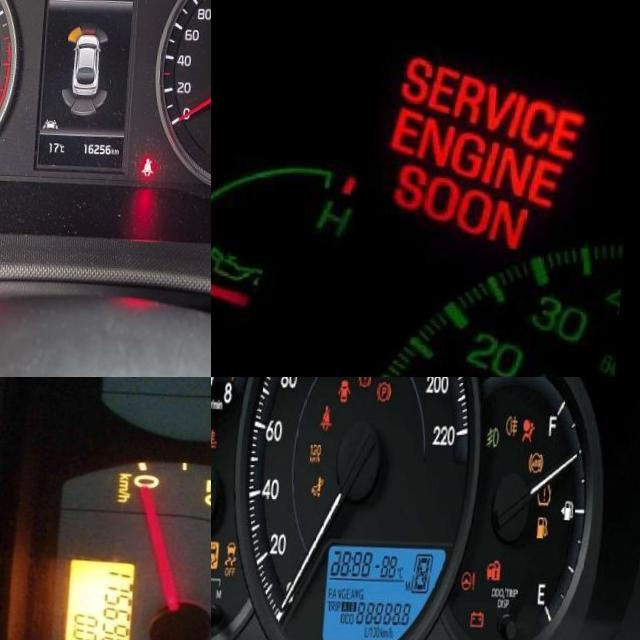Electronic Power Steering: (467, 566, 483, 587)
High Engine Coolant Temperature: (211, 428, 222, 446)
Seat Belt: (324, 403, 337, 428)
